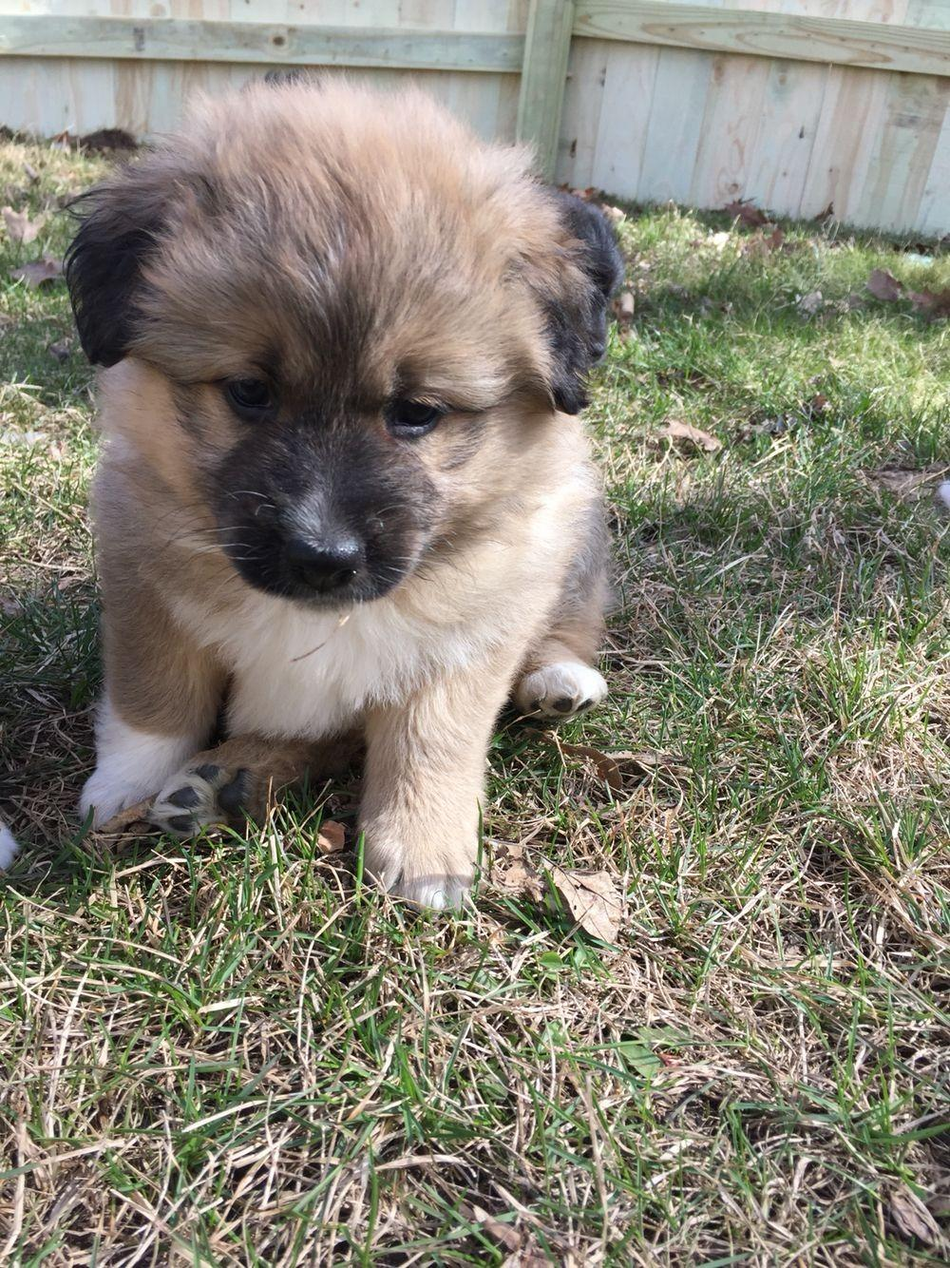puppy-dog: (60, 67, 628, 913)
